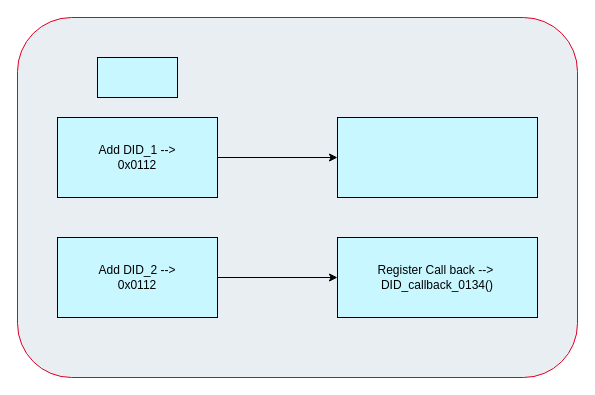
Image size: 595x395. Some labels were removed from this diagram. Here are the shapes that lost their labels. From the top down, the centre of each, then its label:
point (137, 77): easyConfig
point (437, 157): Register Call back --> DID_callback_0112()
